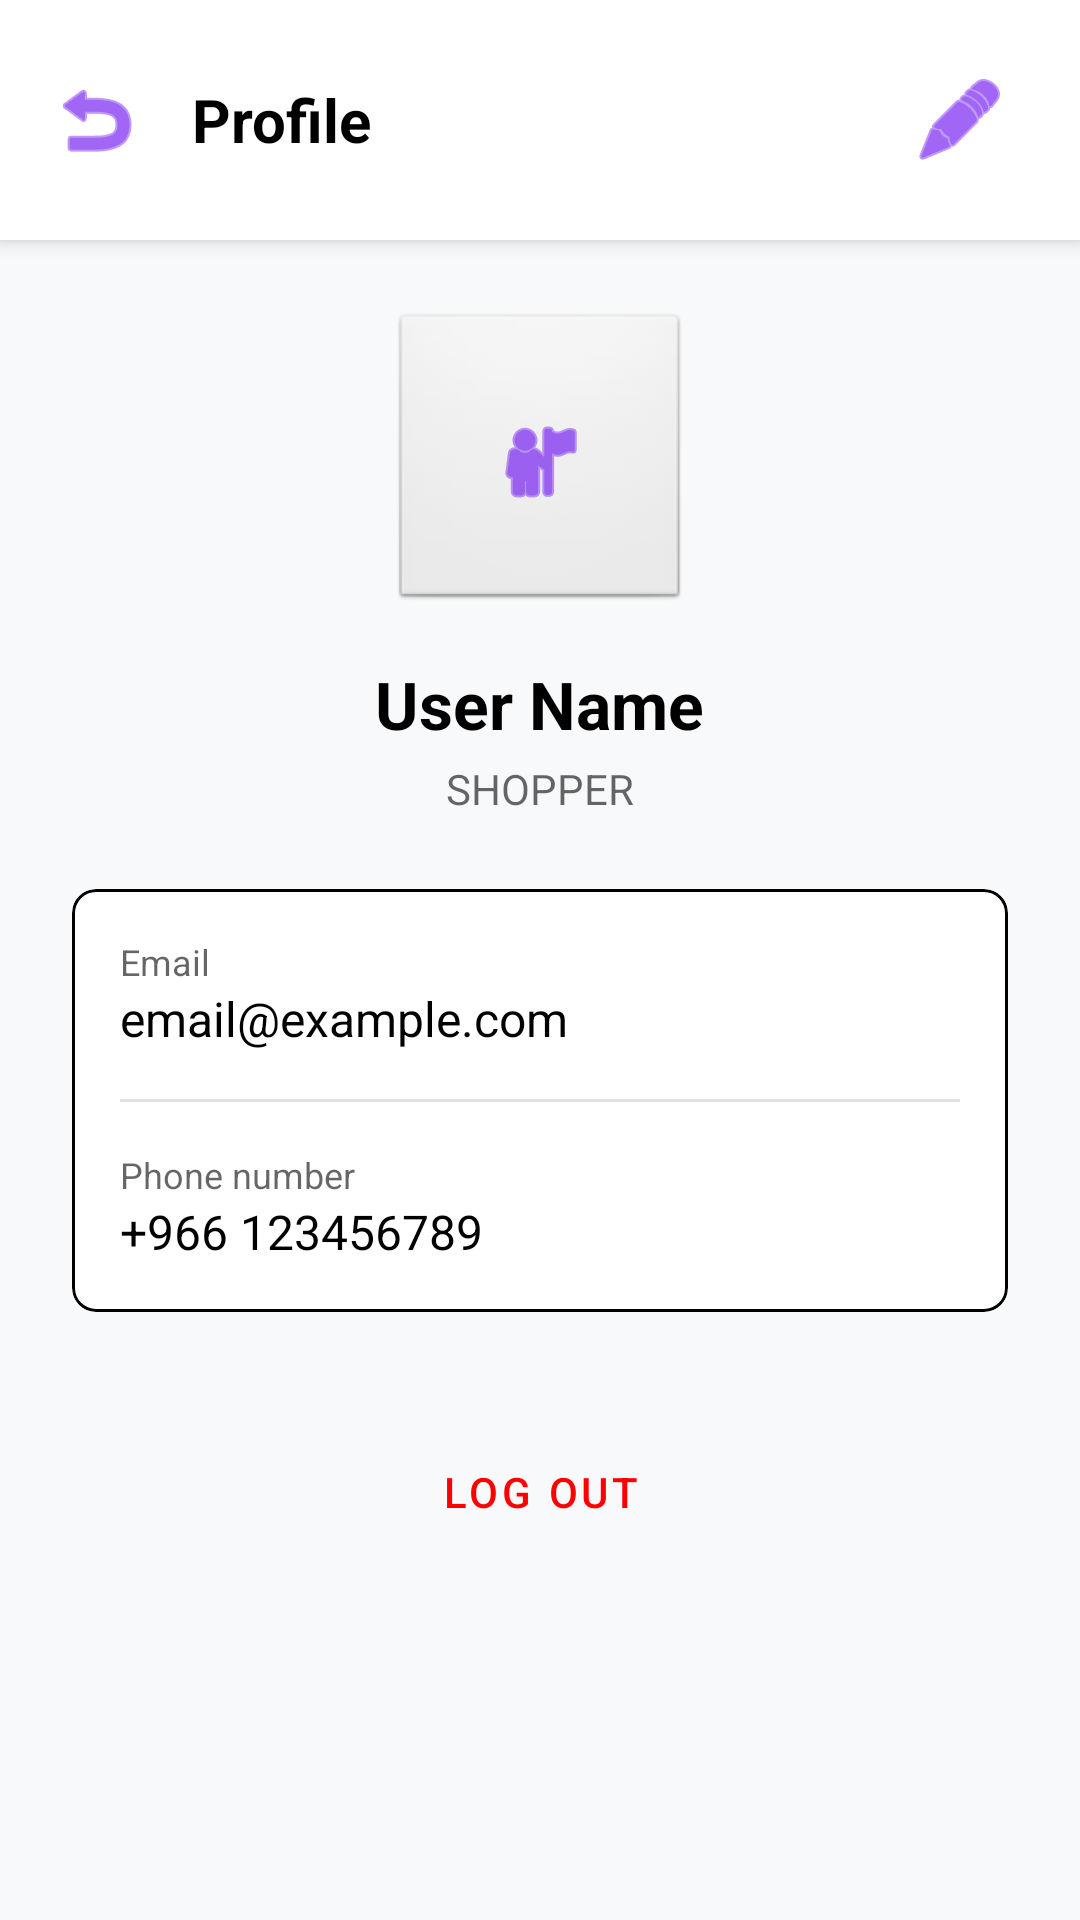

Named icons in this screenshot (1080*1920) and their centers, [x,y]:
Back to Home: [97,120]
Profile: [539,457]
